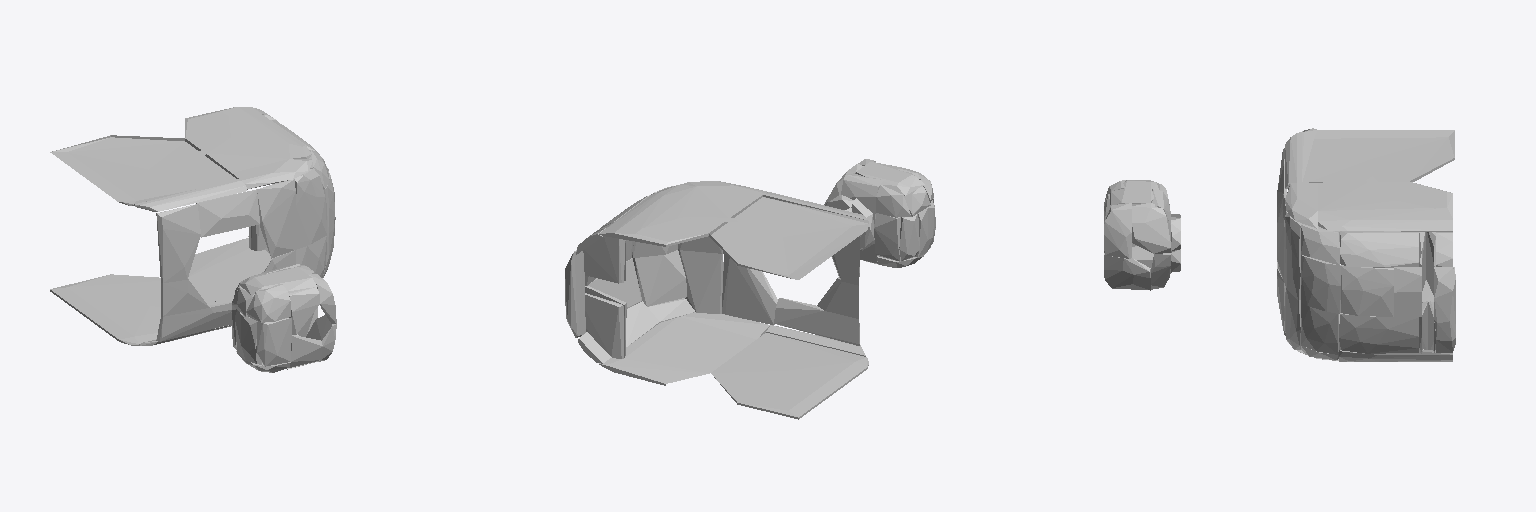
File: fixed_body_vhacd.obj
The picture shows the model from 3 angles: view 1: azimuth 30°, elevation 25°; view 2: azimuth 150°, elevation 25°; view 3: azimuth 270°, elevation 25°; orthographic projection.
Size of the model in its own units: 0.7712 by 0.4457 by 0.9956.